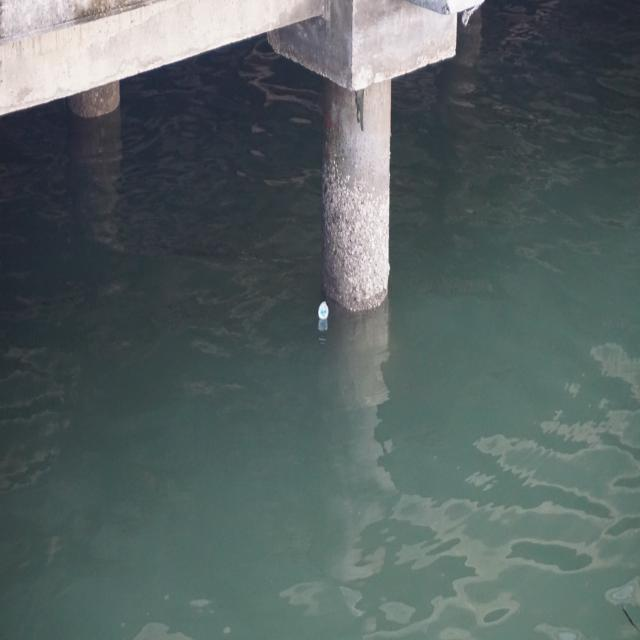Bungkus Minuman: (316, 295, 331, 327)
